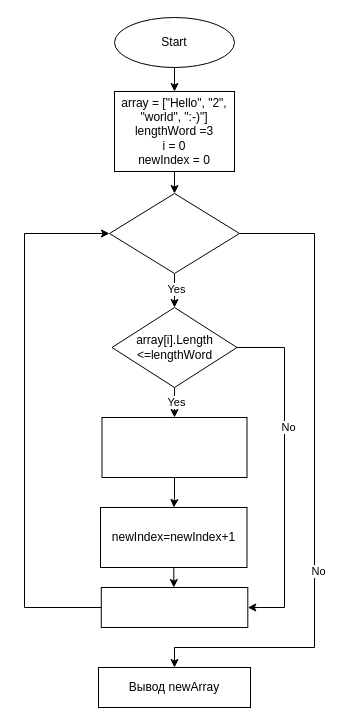
Some shapes in this 342 by 725 pixel diagram are drawn without their labels. Each missing label, with the centre of its shape:
i<array.Length: [174,233]
i=i+1: [174,607]
newArray[newIndex] = array[i]: [174,447]
